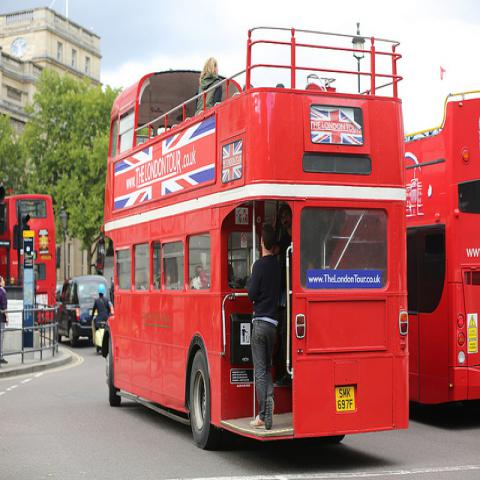bus: (103, 30, 410, 448), (405, 87, 479, 407), (0, 194, 57, 321)
car: (57, 275, 110, 347), (56, 284, 63, 301)
motorcycle: (92, 319, 106, 351)
